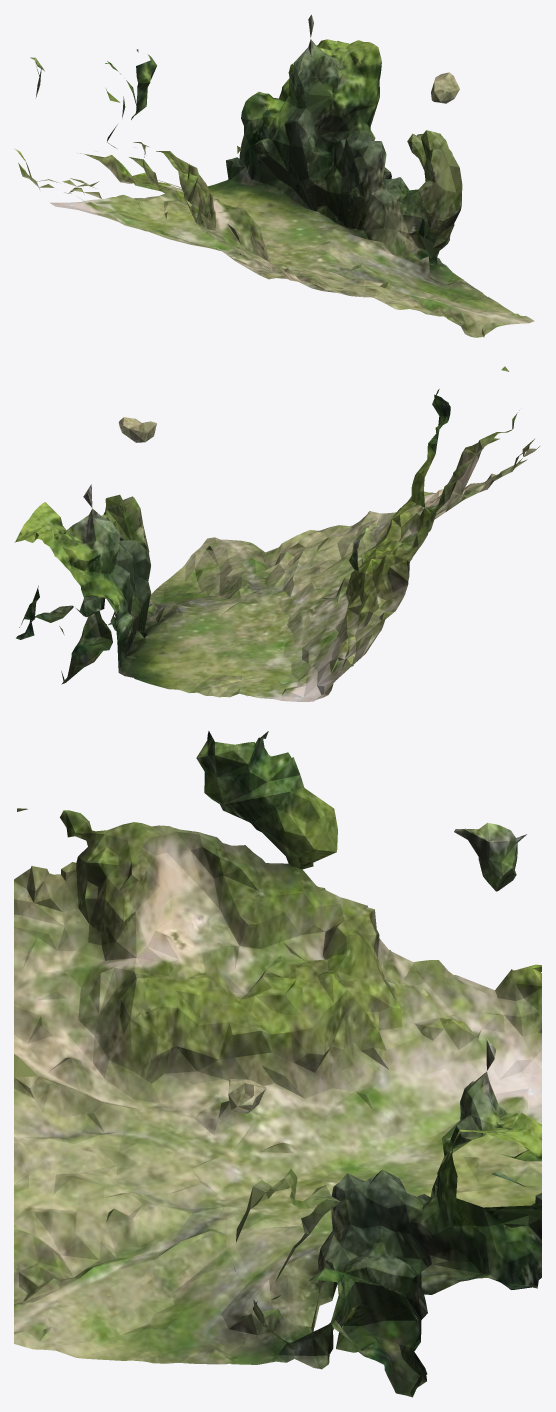
3 renders of one model, top to bottom at view 1: azimuth 30°, elevation 25°; view 2: azimuth 150°, elevation 25°; view 3: azimuth 270°, elevation 25°, orthographic. The views are drawn at different scales.
Bounding box in the file's own units: 26.11 × 24.23 × 26.11.
Materials: 4 (4 with a texture image).
